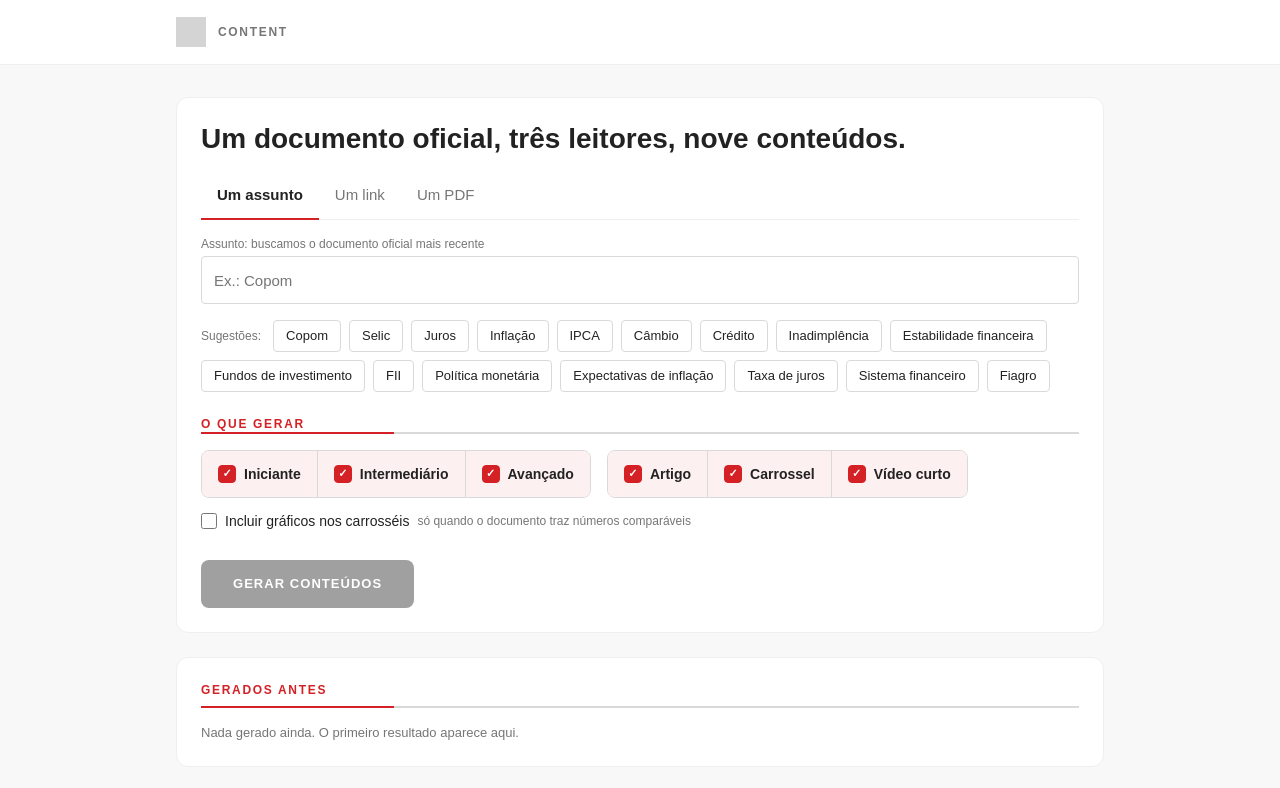
Scenario: App › recusa do servidor na criação do job vira mensagem na tela
Type "Copom" into the field labelled "Assunto: buscamos o documento oficial mais recente" at (640,280), box [201,256,1079,304]
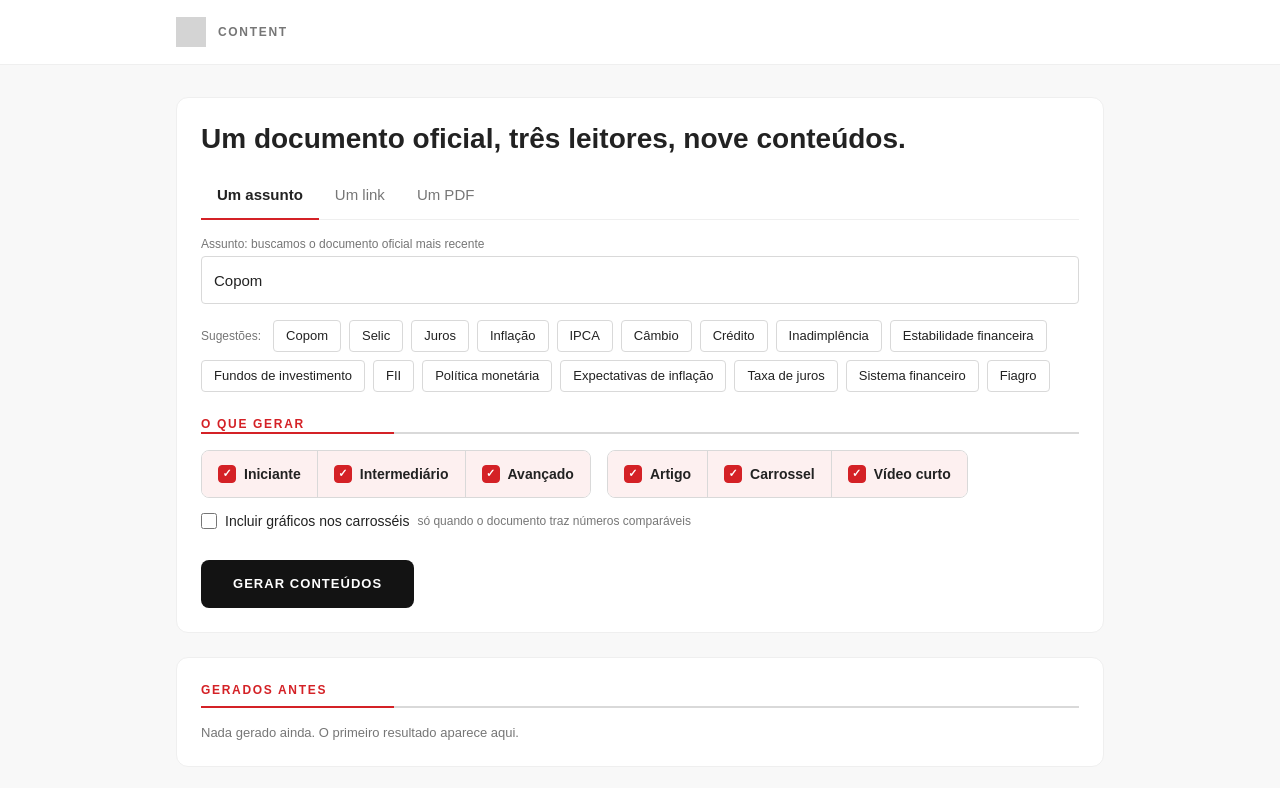
Click the button "Gerar conteúdos" at (308,584), box [201,560,414,608]
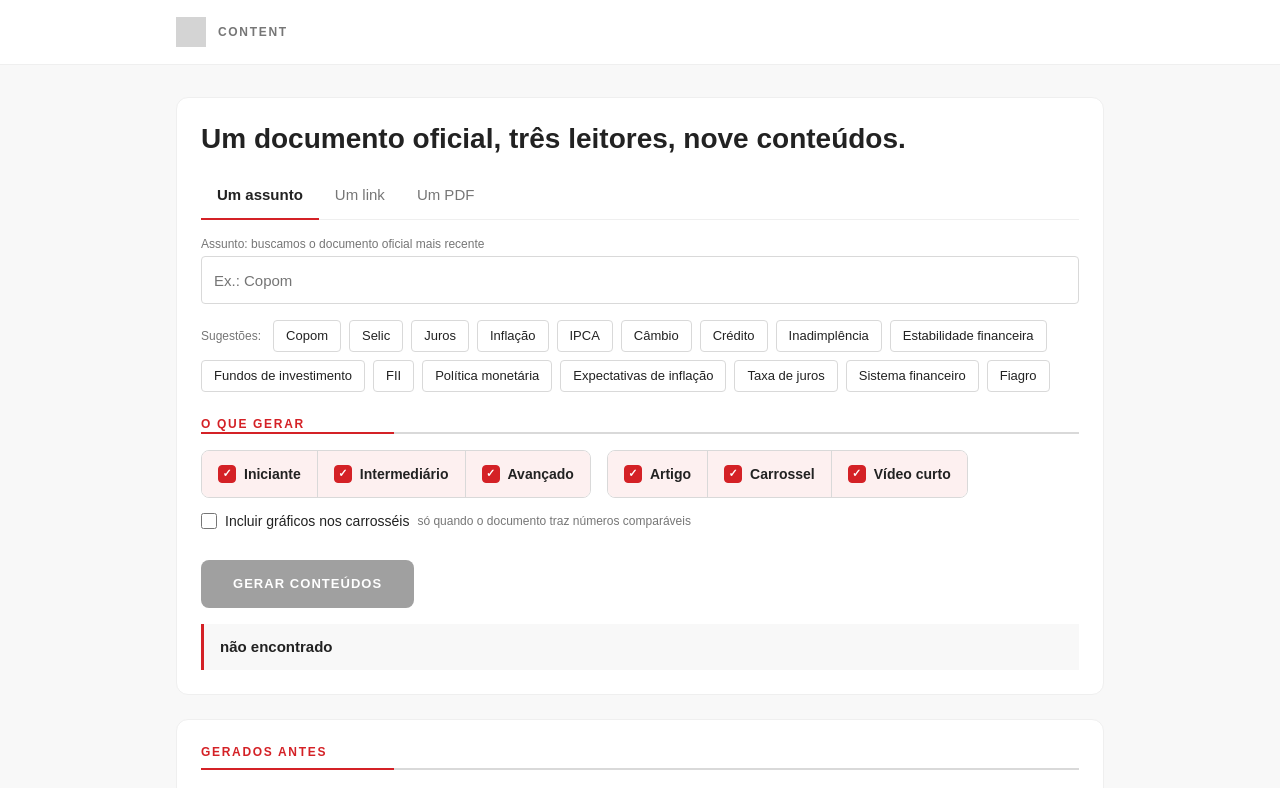
Expected: the message reads "não encontrado", [220,638,332,655]
